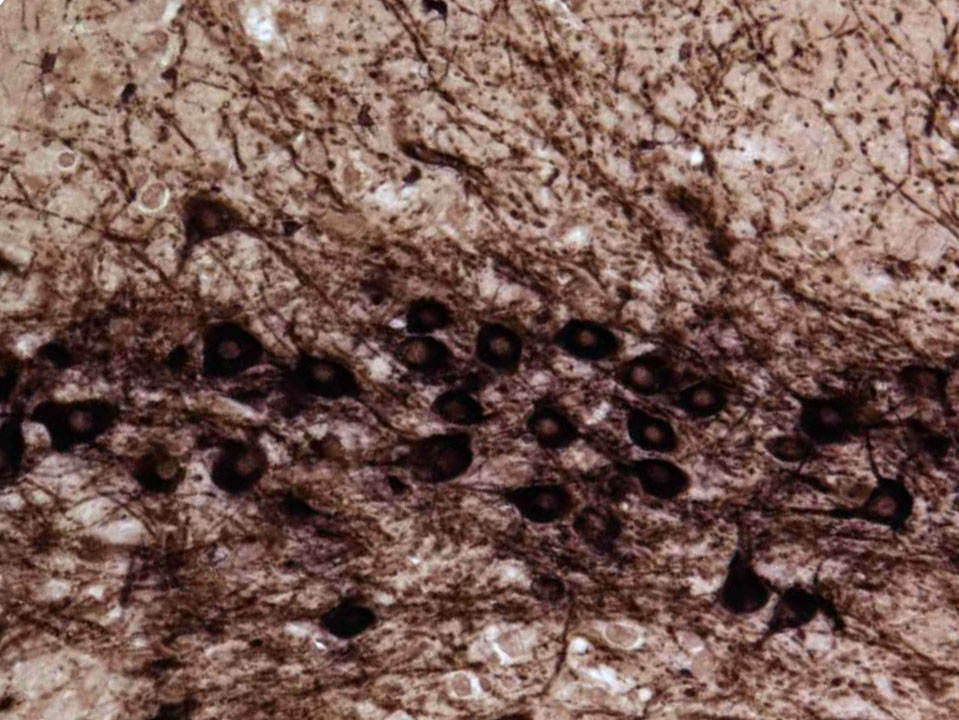neuron: (39, 400, 120, 452), (177, 192, 258, 244), (287, 349, 368, 401), (843, 477, 924, 529), (194, 324, 269, 377), (553, 311, 622, 362), (129, 443, 187, 498), (212, 442, 270, 495), (527, 401, 583, 449), (394, 333, 456, 375), (475, 324, 526, 374), (508, 481, 568, 523), (793, 385, 852, 426), (761, 433, 828, 468), (426, 389, 486, 426), (626, 406, 673, 453), (675, 377, 724, 422), (401, 296, 455, 328), (623, 356, 664, 396)
